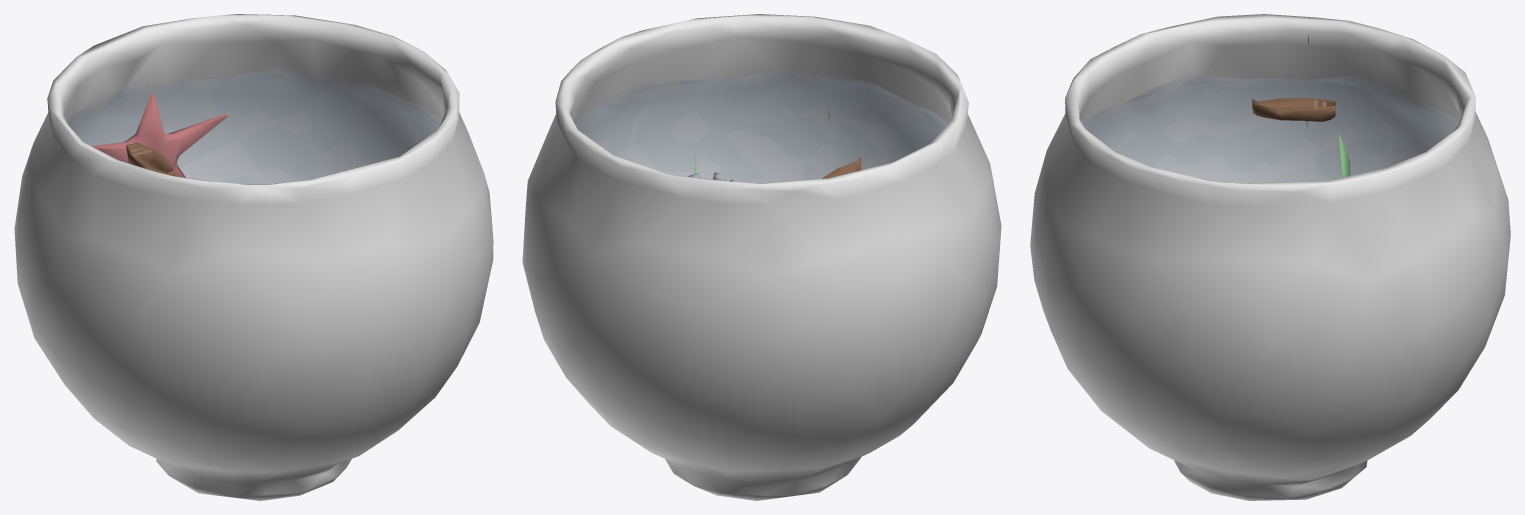
The model's file is fishbowl2.glb.
3 views of the same model, side by side, from view 1: azimuth 30°, elevation 25°; view 2: azimuth 150°, elevation 25°; view 3: azimuth 270°, elevation 25° (orthographic).
Visible parts, largest first — view 1: Water Surface Displaced; view 2: Water Surface Displaced; view 3: Water Surface Displaced.
Boxes of the visible parts, box(x1,y1,x2,y2) form: Water Surface Displaced: box(14, 14, 493, 500); Water Surface Displaced: box(522, 14, 1001, 500); Water Surface Displaced: box(1030, 14, 1510, 500).
Bounding box in the file's own units: 1.98 × 1.79 × 1.98.
